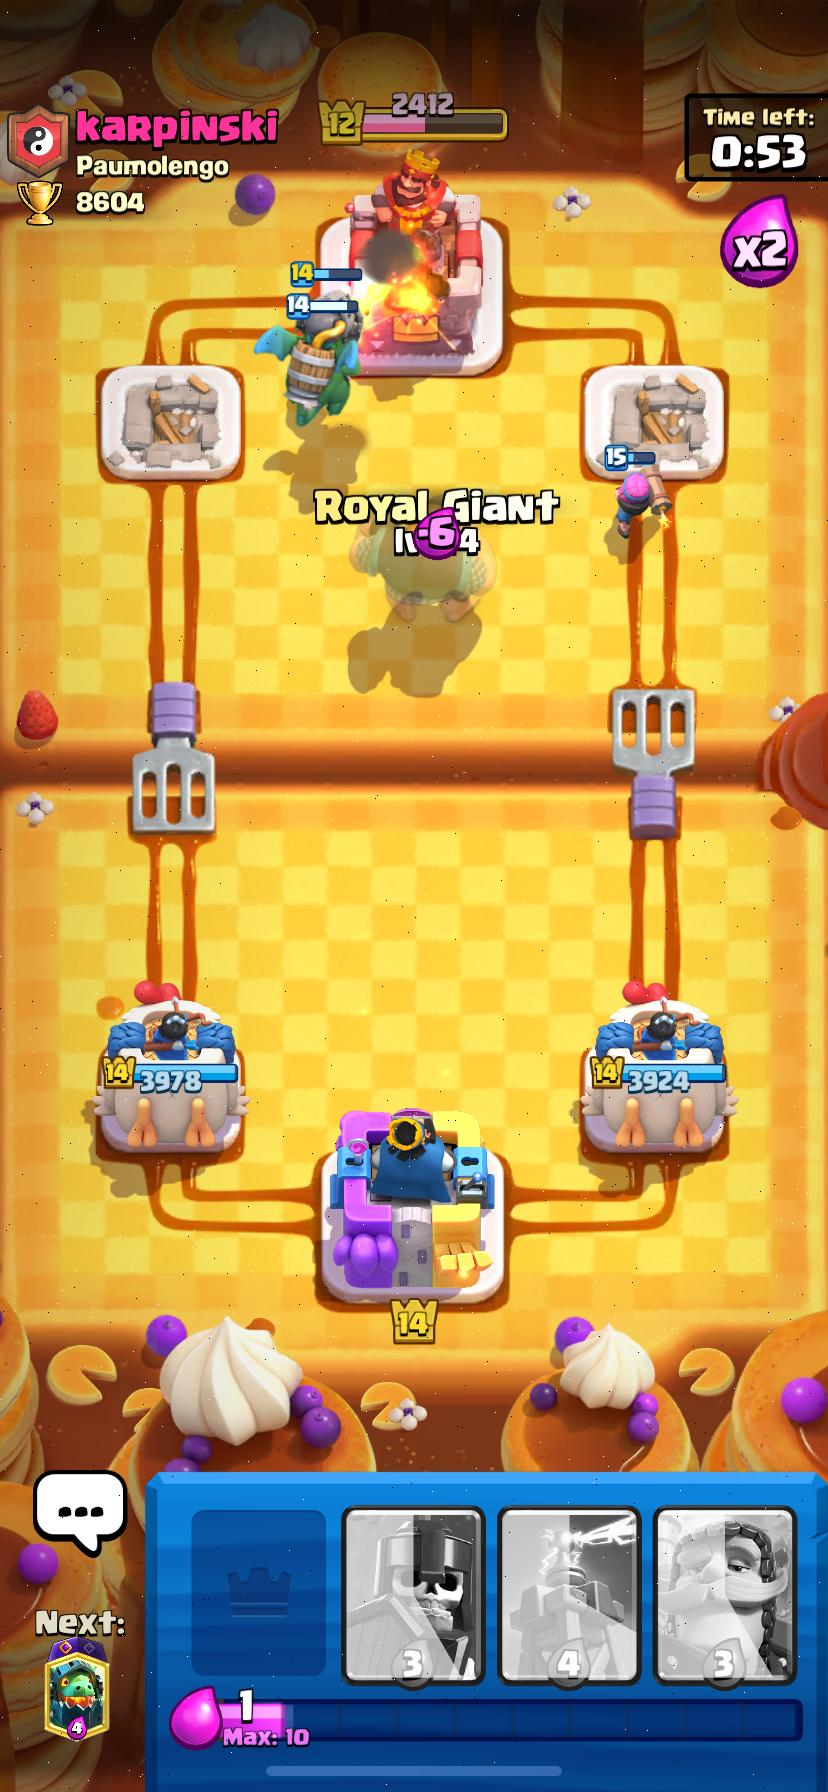EKingTower: (347, 149, 483, 374)
OFirecrack: (618, 465, 671, 538)
OInfernoDrag: (256, 296, 363, 426)
ORoyalG: (351, 523, 495, 622)
OwnKingTower: (321, 1109, 503, 1303)
OwnPrincessTower: (580, 982, 735, 1154), (93, 983, 248, 1152)
TowerDown: (99, 365, 241, 480), (584, 366, 724, 481)
